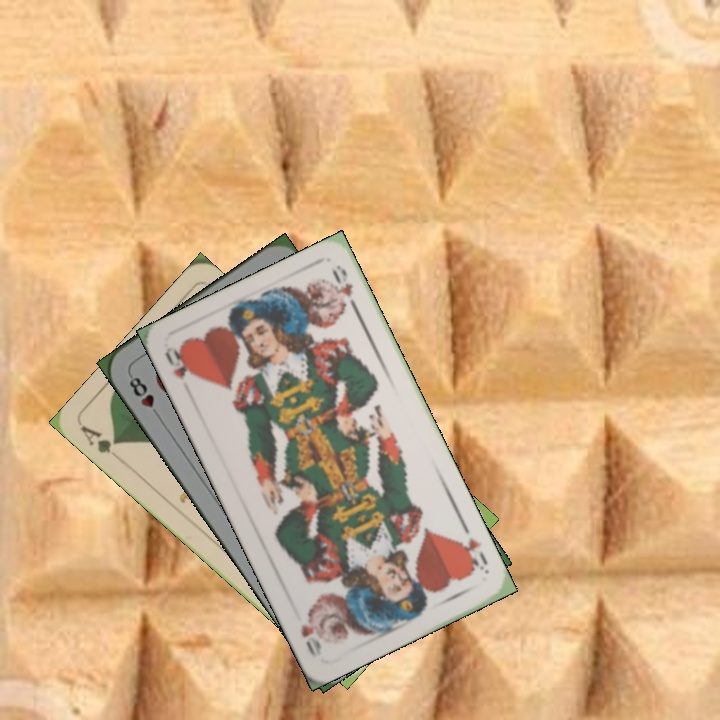GA: (76, 422, 122, 456)
H8: (125, 370, 164, 422)
HO: (454, 533, 492, 577), (160, 342, 197, 382)
